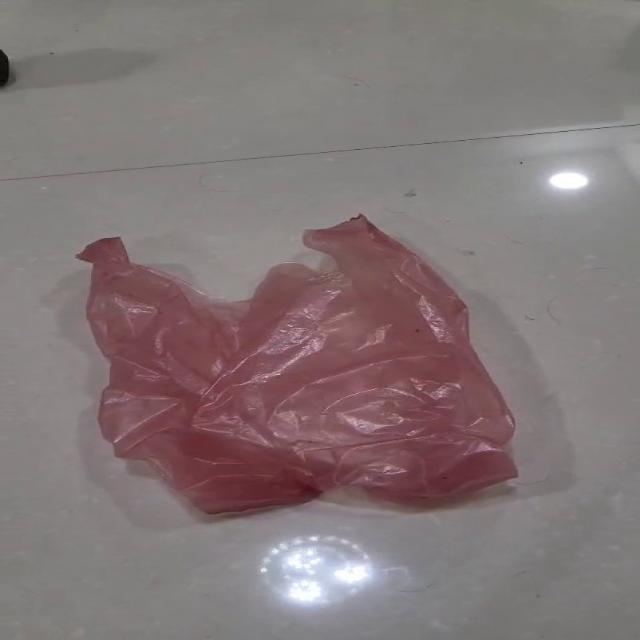plastic: (75, 212, 519, 516)
